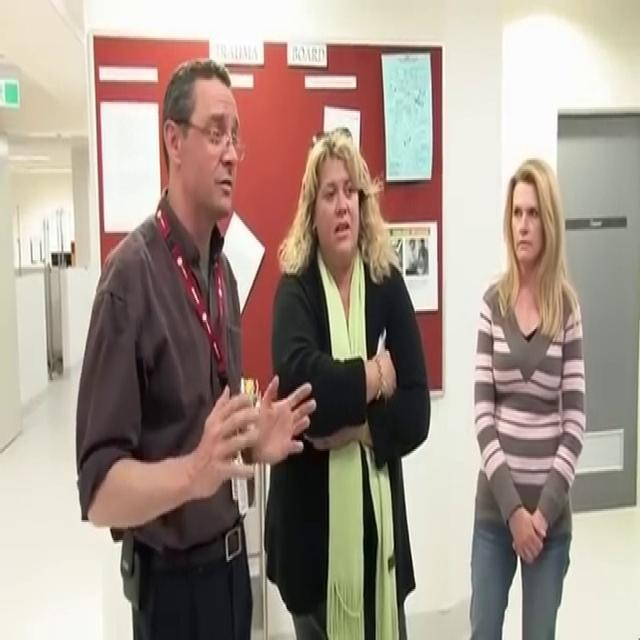doctor: (74, 56, 316, 638)
others: (263, 126, 431, 638), (467, 156, 586, 638)
